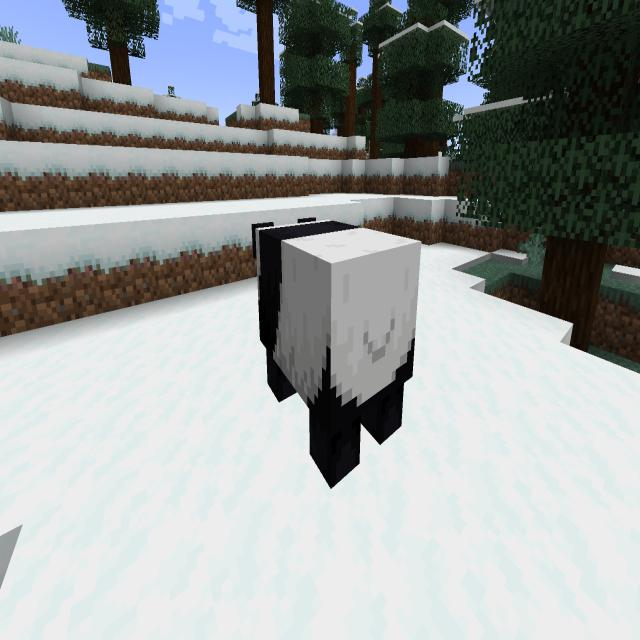Panda: (238, 199, 429, 519)
